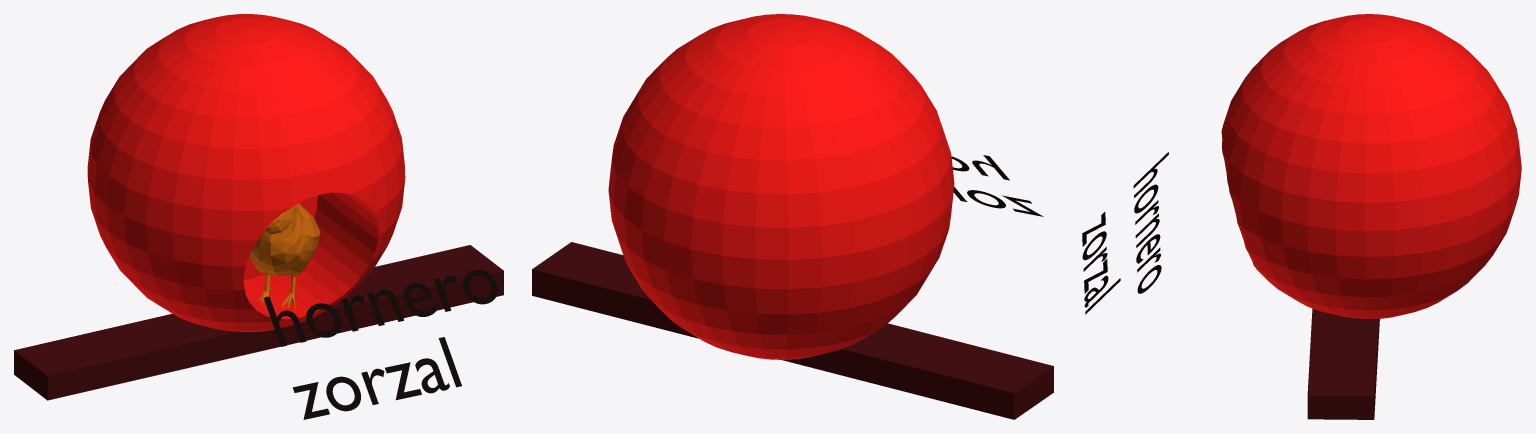
The model's file is hornero.gltf.
3 renders of one model, left to right at view 1: azimuth 30°, elevation 25°; view 2: azimuth 150°, elevation 25°; view 3: azimuth 270°, elevation 25°, orthographic. The views are drawn at different scales.
Parts seen in each view (by area): view 1: node-0; view 2: node-0; view 3: node-0.
Part boxes in pixels (x1,y1,x2,y2): node-0: (14,14,503,419); node-0: (532,14,1053,419); node-0: (1082,14,1521,419).
Bounding box in the file's own units: 6.82 × 4.3 × 6.
